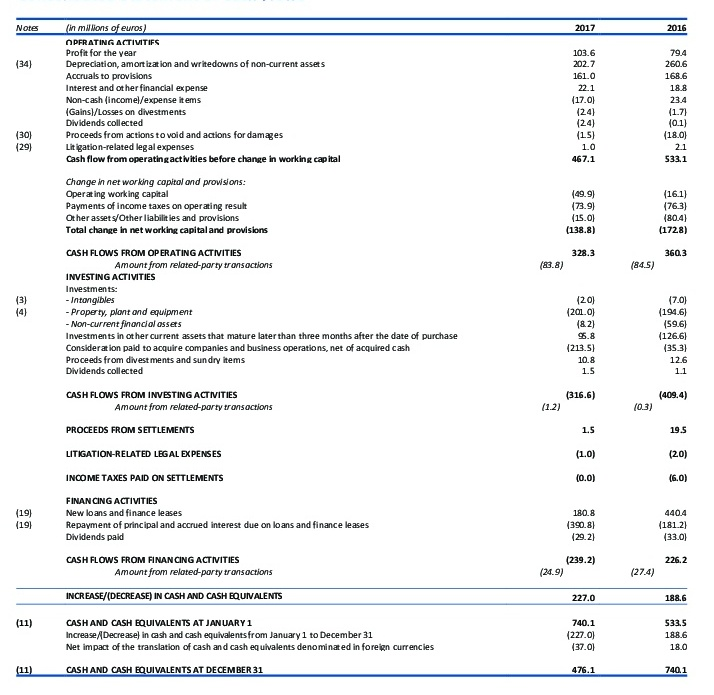table: (0, 0, 714, 695)
